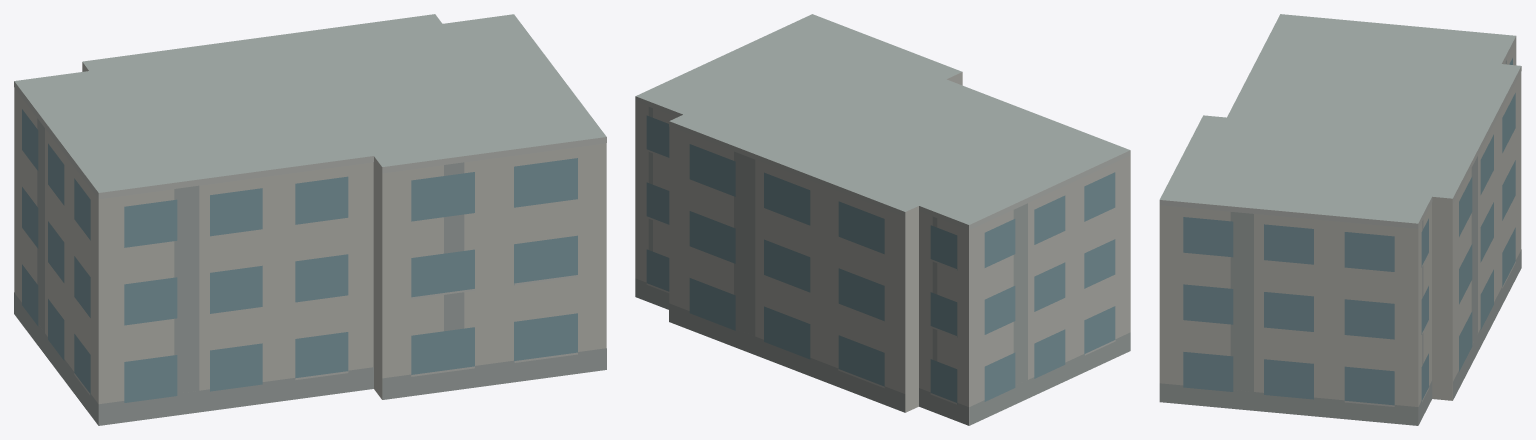
File: residential-ed7fe7f2-1da3-4a12-b05d-3c957e4bd082.glb
The picture shows the model from 3 angles, left to right: view 1: azimuth 30°, elevation 25°; view 2: azimuth 150°, elevation 25°; view 3: azimuth 270°, elevation 25°; orthographic projection. The views are drawn at different scales.
Parts seen in each view (by area): view 1: residential-ed7fe7f2-1da3-4a12-b05d-3c957e4bd082.tmp; view 2: residential-ed7fe7f2-1da3-4a12-b05d-3c957e4bd082.tmp; view 3: residential-ed7fe7f2-1da3-4a12-b05d-3c957e4bd082.tmp.
Part boxes in pixels (x1,y1,x2,y2): residential-ed7fe7f2-1da3-4a12-b05d-3c957e4bd082.tmp: [14, 14, 606, 425]; residential-ed7fe7f2-1da3-4a12-b05d-3c957e4bd082.tmp: [635, 14, 1130, 425]; residential-ed7fe7f2-1da3-4a12-b05d-3c957e4bd082.tmp: [1159, 14, 1521, 425].
Size of the model in its own units: 20.35 by 9.15 by 14.85.
